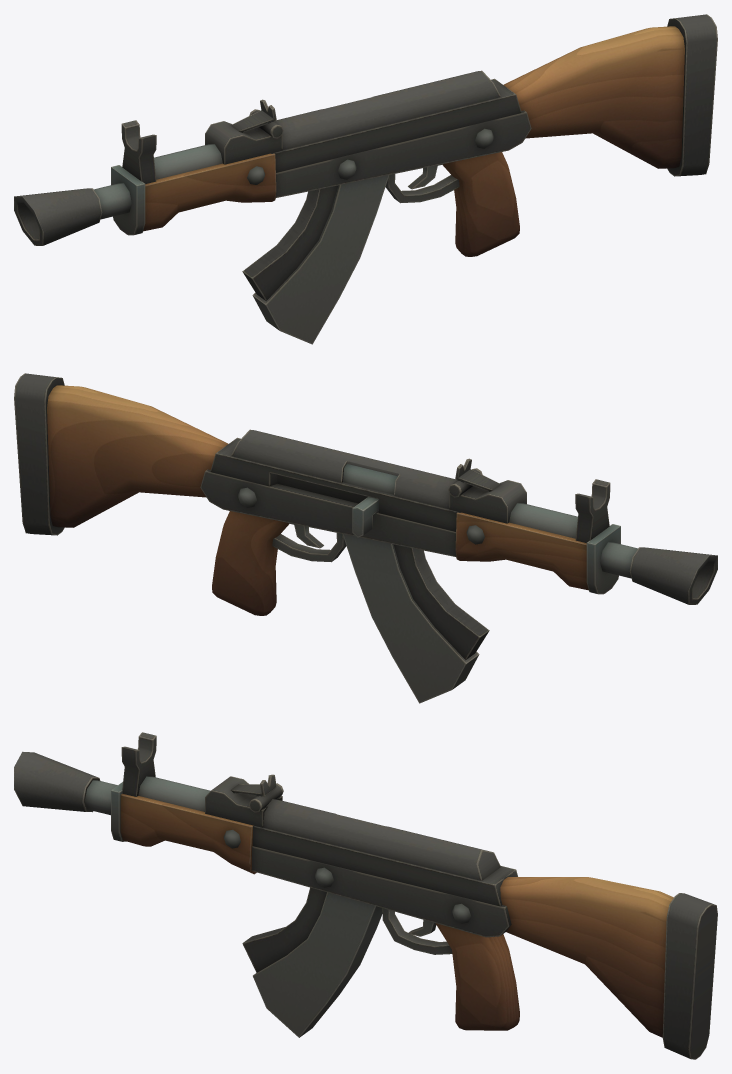
File: stylized_low-poly_ak-47_rifle.glb
3 views of the same model, one above another, from view 1: azimuth 30°, elevation 25°; view 2: azimuth 150°, elevation 25°; view 3: azimuth 330°, elevation 25° (orthographic).
Parts seen in each view (by area): view 1: automatic_rifle; view 2: automatic_rifle; view 3: automatic_rifle.
Part boxes in pixels (<box>): automatic_rifle: <box>14,14,717,344</box>; automatic_rifle: <box>14,373,717,703</box>; automatic_rifle: <box>14,732,717,1059</box>.
Size of the model in its own units: 60.91 by 21.26 by 6.04.
1 material, 1 textured.
